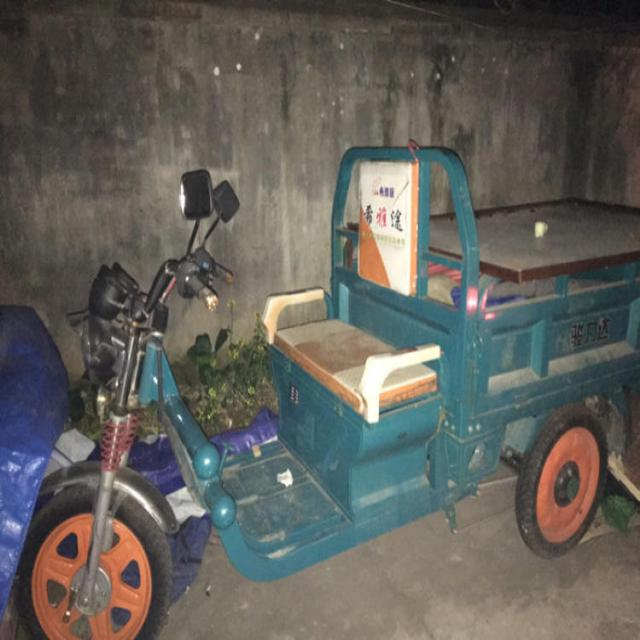tricycle: (15, 143, 639, 636)
